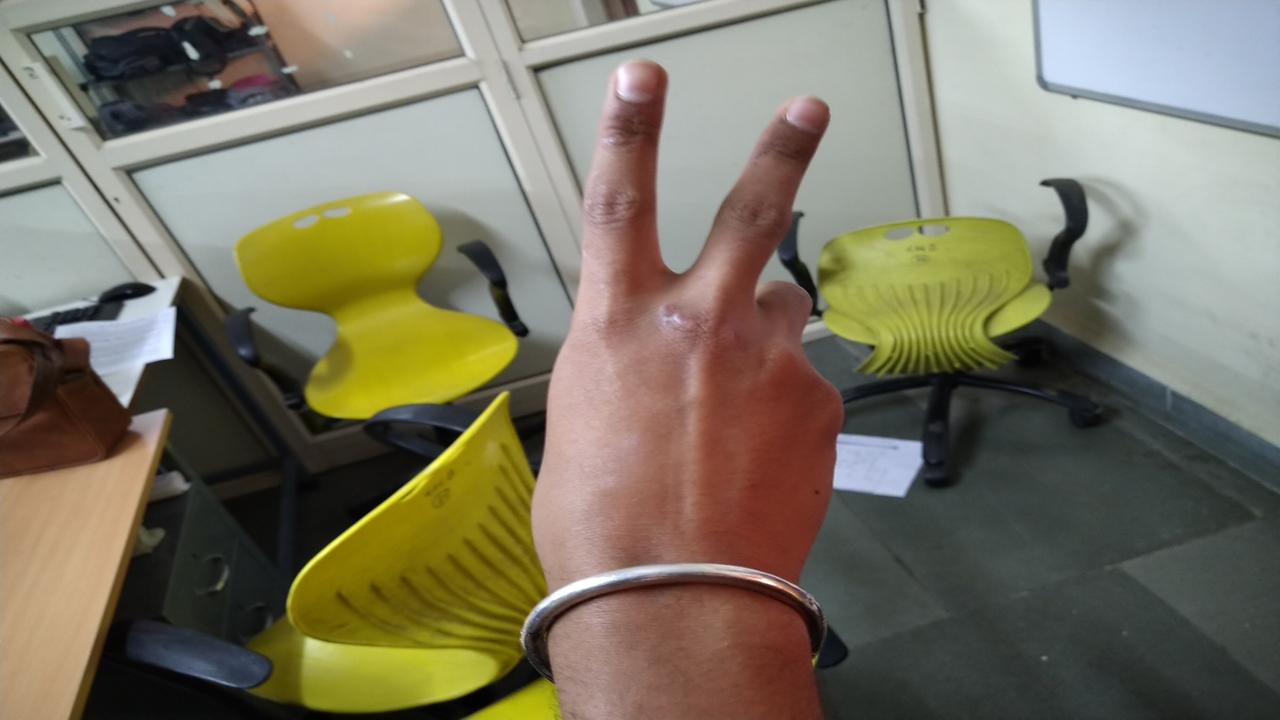fingertip: (604, 50, 670, 112), (772, 88, 834, 146)
